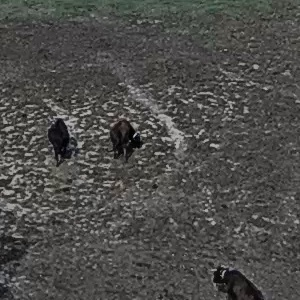cow: (198, 255, 274, 300), (100, 112, 152, 173), (35, 110, 84, 172)
